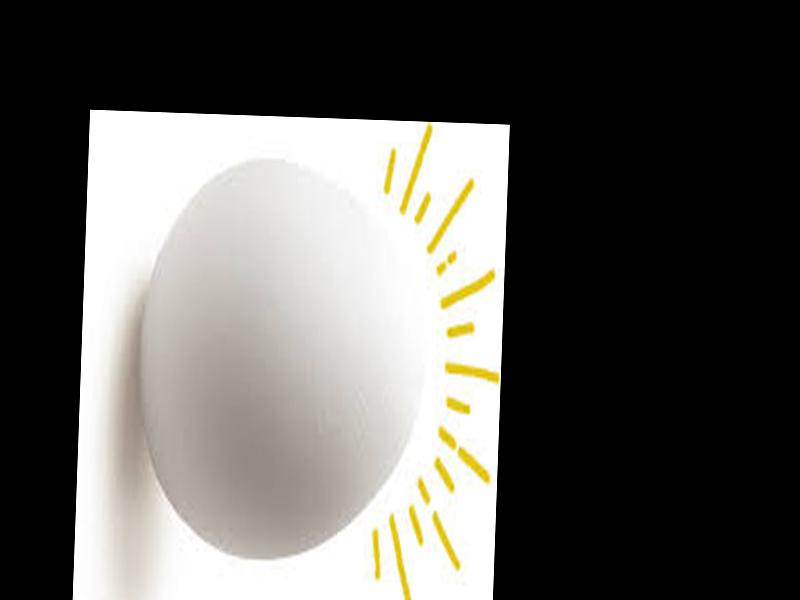Eggs: (132, 151, 429, 564)
